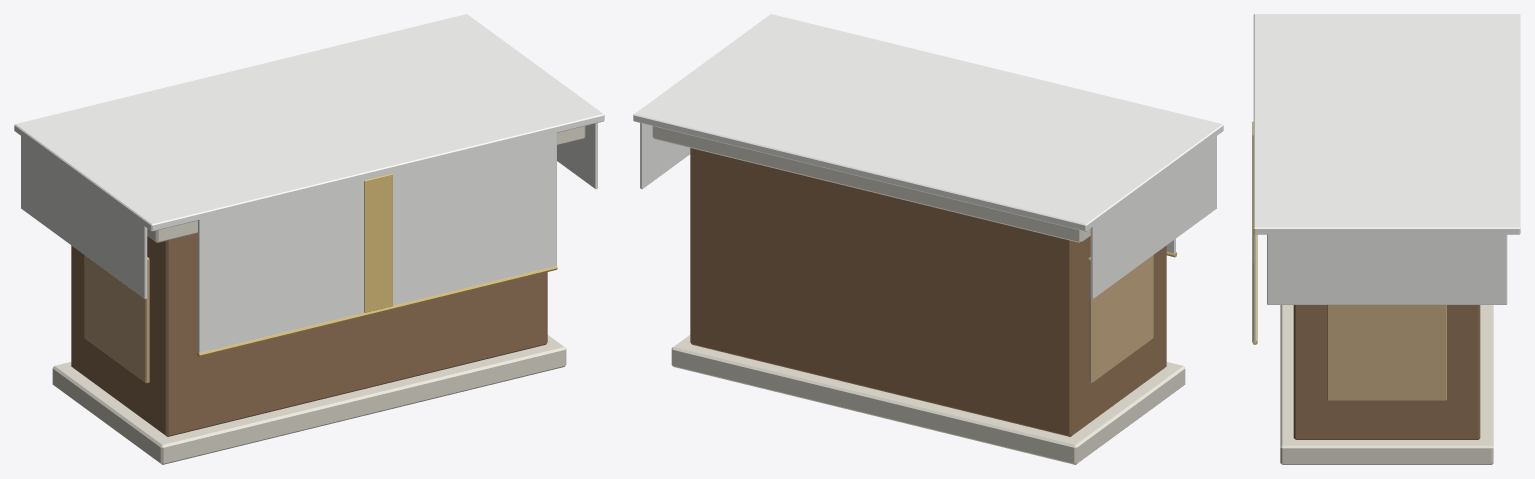
The model's file is wedding-and-chapel-kit-altar-table-387e2fad__39383.glb.
3 views of the same model, side by side, from view 1: azimuth 30°, elevation 25°; view 2: azimuth 150°, elevation 25°; view 3: azimuth 270°, elevation 25° (orthographic). The views are drawn at different scales.
Parts seen in each view (by area): view 1: altar-table; view 2: altar-table; view 3: altar-table.
Boxes of the visible parts, box(x1,y1,x2,y2) form: altar-table: box(14, 14, 604, 464); altar-table: box(633, 14, 1223, 464); altar-table: box(1252, 14, 1520, 464).
Size of the model in its own units: 1.9 by 1.03 by 1.
